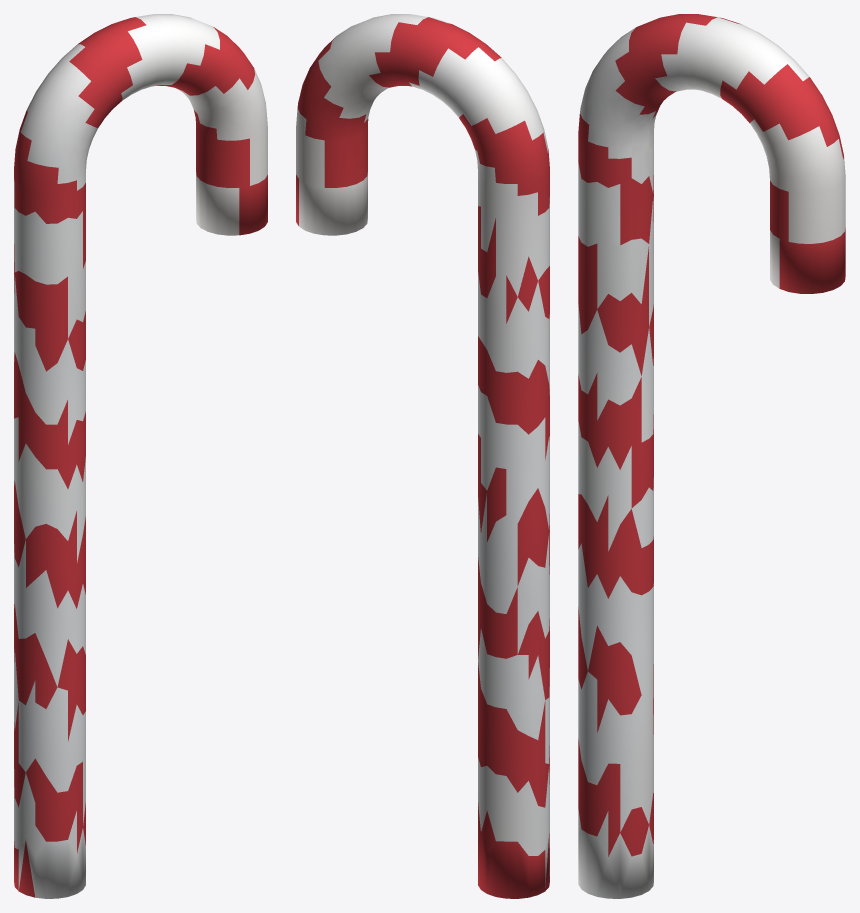
File: frost_candy_cane_lod1.glb
3 views of the same model, side by side, from view 1: azimuth 30°, elevation 25°; view 2: azimuth 150°, elevation 25°; view 3: azimuth 330°, elevation 25° (orthographic). The views are drawn at different scales.
Visible parts, largest first — view 1: frost_candy_cane.001; view 2: frost_candy_cane.001; view 3: frost_candy_cane.001.
Boxes of the visible parts, <box> form: frost_candy_cane.001: <box>14,14,267,898</box>; frost_candy_cane.001: <box>296,14,549,898</box>; frost_candy_cane.001: <box>578,14,845,898</box>.
Bounding box in the file's own units: 9.12 × 30 × 2.33.
